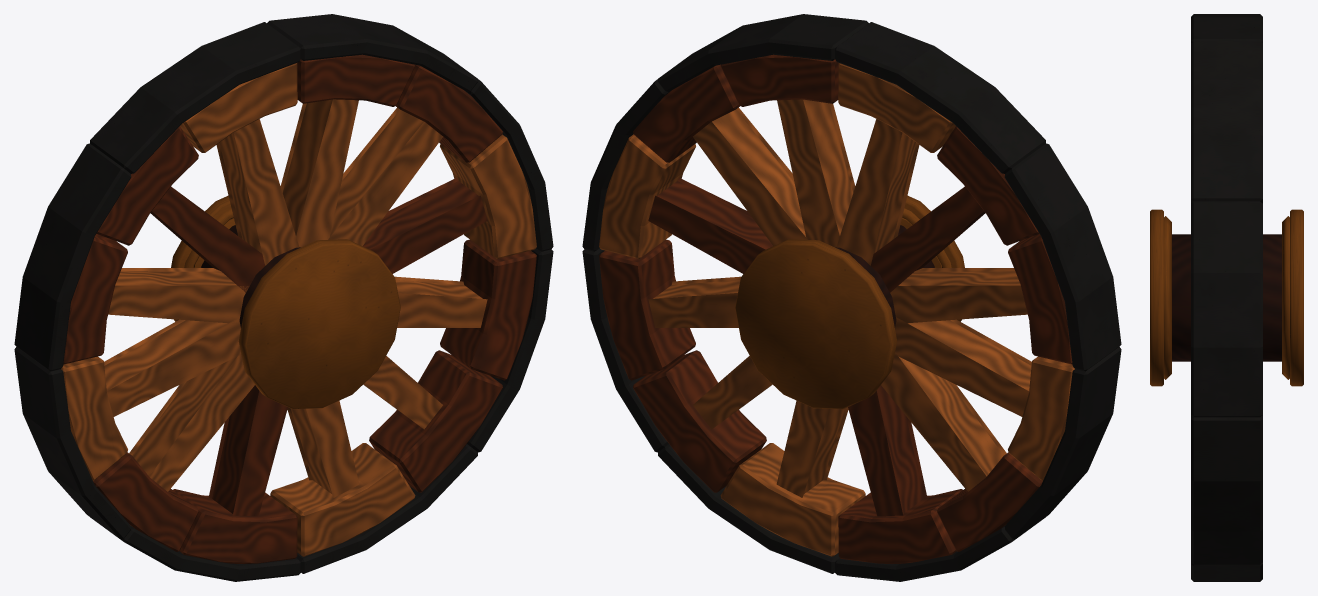
Rendered from wooden_wagon_wheel_LOD1.glb.
The picture shows the model from 3 angles, left to right: view 1: azimuth 30°, elevation 25°; view 2: azimuth 150°, elevation 25°; view 3: azimuth 270°, elevation 25°; orthographic projection. The views are drawn at different scales.
Parts seen in each view (by area): view 1: Layered brass hub plate -1, Continuous iron tyre sector 3, Continuous iron tyre sector 2, Closed wooden felloe 10, Closed wooden felloe 11, Closed wooden felloe 9, Tapered wooden spoke 7, Tapered wooden spoke 2, Tapered wooden spoke 6, Tapered wooden spoke 1, Continuous iron tyre sector 4, Tapered wooden spoke 3 (+22 smaller); view 2: Layered brass hub plate 1, Continuous iron tyre sector 3, Continuous iron tyre sector 2, Closed wooden felloe 10, Closed wooden felloe 11, Closed wooden felloe 9, Tapered wooden spoke 7, Tapered wooden spoke 2, Tapered wooden spoke 6, Tapered wooden spoke 1, Continuous iron tyre sector 4, Tapered wooden spoke 3 (+22 smaller); view 3: Continuous iron tyre sector 0, Continuous iron tyre sector 1, Continuous iron tyre sector 7, Deep wooden hub barrel, Layered brass hub plate 1, Layered brass hub plate -1, Continuous iron tyre sector 2, Continuous iron tyre sector 6, Outer hub moulding 1, Outer hub moulding -1.
Boxes of the visible parts, x1,y1,x2,y2 form: Layered brass hub plate -1: [238, 239, 400, 409]; Continuous iron tyre sector 3: [14, 143, 131, 371]; Continuous iron tyre sector 2: [90, 22, 300, 173]; Closed wooden felloe 10: [369, 350, 502, 492]; Closed wooden felloe 11: [440, 239, 536, 380]; Closed wooden felloe 9: [270, 443, 415, 556]; Tapered wooden spoke 7: [129, 353, 254, 491]; Tapered wooden spoke 2: [280, 99, 358, 247]; Tapered wooden spoke 6: [104, 317, 240, 416]; Tapered wooden spoke 1: [328, 107, 442, 245]; Continuous iron tyre sector 4: [14, 347, 131, 539]; Tapered wooden spoke 3: [216, 119, 299, 265]; Layered brass hub plate 1: [735, 239, 897, 409]; Continuous iron tyre sector 3: [1004, 143, 1121, 371]; Continuous iron tyre sector 2: [835, 22, 1045, 173]; Closed wooden felloe 10: [633, 350, 766, 492]; Closed wooden felloe 11: [599, 239, 695, 380]; Closed wooden felloe 9: [720, 443, 865, 556]; Tapered wooden spoke 7: [881, 352, 1006, 491]; Tapered wooden spoke 2: [777, 99, 855, 247]; Tapered wooden spoke 6: [895, 317, 1031, 416]; Tapered wooden spoke 1: [693, 107, 807, 245]; Continuous iron tyre sector 4: [1004, 347, 1121, 539]; Tapered wooden spoke 3: [836, 119, 919, 265]; Continuous iron tyre sector 0: [1191, 201, 1262, 417]; Continuous iron tyre sector 1: [1191, 41, 1262, 203]; Continuous iron tyre sector 7: [1191, 415, 1262, 564]; Deep wooden hub barrel: [1172, 234, 1281, 361]; Layered brass hub plate 1: [1290, 209, 1303, 386]; Layered brass hub plate -1: [1150, 209, 1163, 386]; Continuous iron tyre sector 2: [1191, 14, 1262, 42]; Continuous iron tyre sector 6: [1191, 562, 1262, 581]; Outer hub moulding 1: [1282, 216, 1289, 379]; Outer hub moulding -1: [1164, 216, 1171, 379].
Bounding box in the file's own units: 0.6512 × 0.6512 × 0.176.
Materials: 6 (6 with a texture image).
